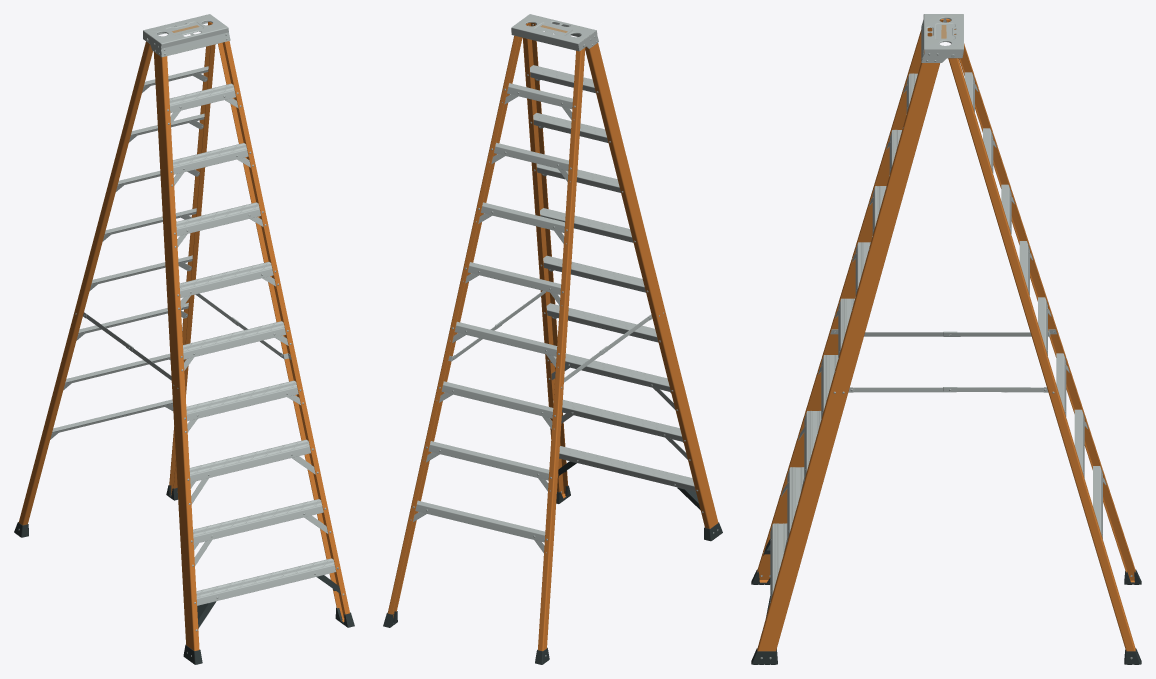
The model's file is ladder_step_fiberglass_heavyDuty_a03.glb.
The picture shows the model from 3 angles, left to right: view 1: azimuth 30°, elevation 25°; view 2: azimuth 150°, elevation 25°; view 3: azimuth 270°, elevation 25°; orthographic projection. The views are drawn at different scales.
Size of the model in its own units: 0.8798 by 2.9 by 1.73.
